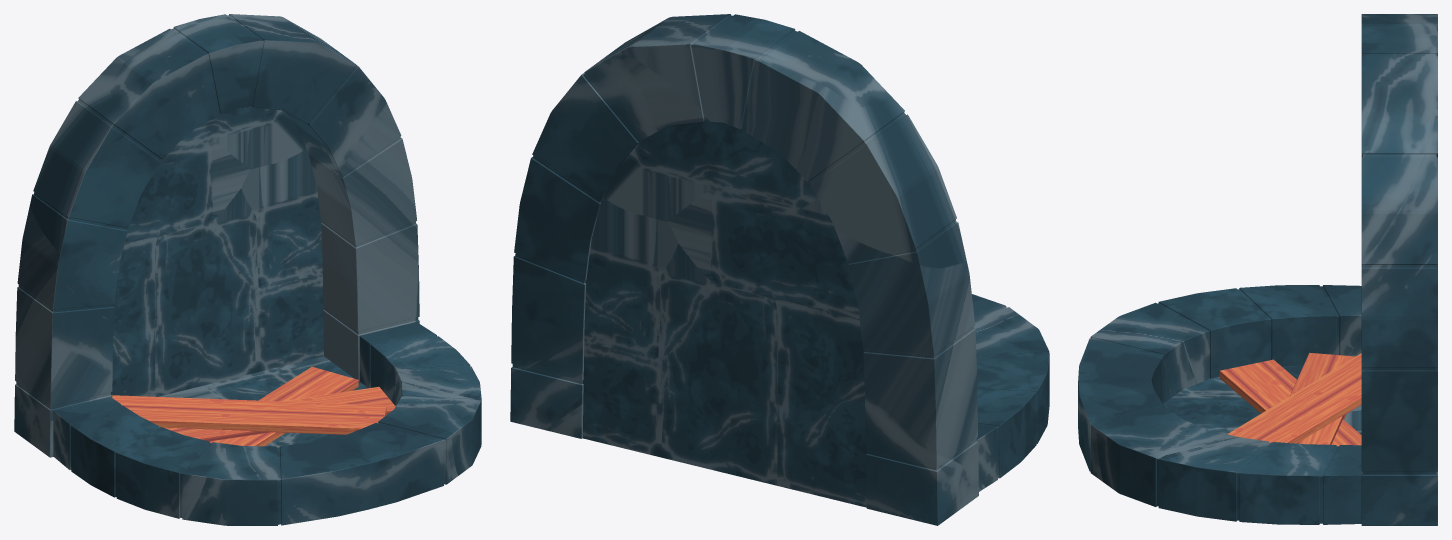
File: Fireplace.fbx
3 views of the same model, side by side, from view 1: azimuth 30°, elevation 25°; view 2: azimuth 150°, elevation 25°; view 3: azimuth 270°, elevation 25° (orthographic). The views are drawn at different scales.
Parts seen in each view (by area): view 1: Fireplace, Firewood; view 2: Fireplace; view 3: Fireplace, Firewood.
Boxes of the visible parts, box(x1,y1,x2,y2) form: Fireplace: box(14, 14, 481, 525); Firewood: box(112, 366, 395, 446); Fireplace: box(510, 14, 1049, 525); Fireplace: box(1078, 14, 1437, 525); Firewood: box(1219, 352, 1361, 446).
Bounding box in the file's own units: 2.62 × 2.48 × 2.07.
